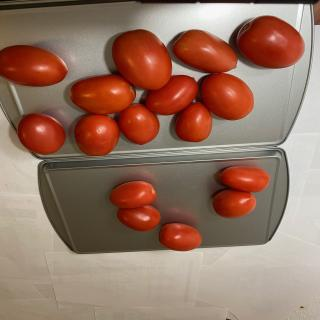Tomato: (237, 15, 306, 69), (112, 29, 172, 90), (0, 44, 68, 87), (172, 29, 238, 73), (70, 74, 136, 114), (201, 73, 254, 120), (146, 74, 198, 116), (17, 113, 66, 155), (74, 114, 120, 156), (119, 103, 160, 145), (175, 101, 212, 142), (212, 189, 257, 219), (109, 180, 157, 208), (220, 166, 270, 192), (158, 223, 202, 251), (117, 205, 161, 232)
